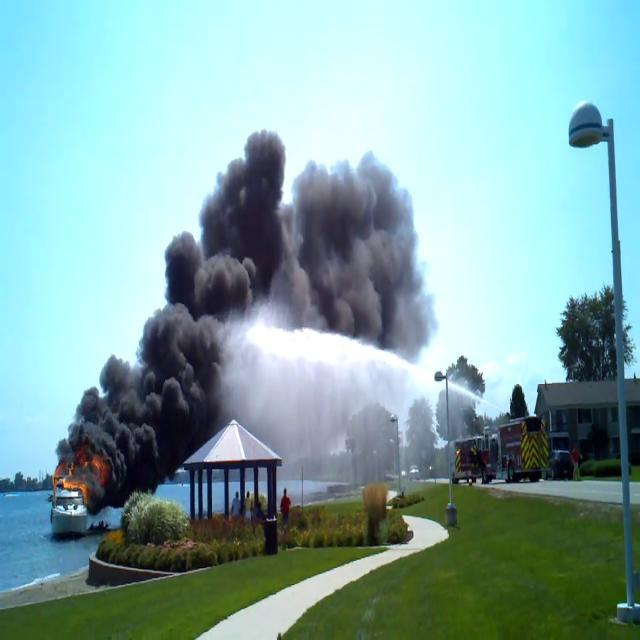Smoke: (60, 110, 434, 500)
